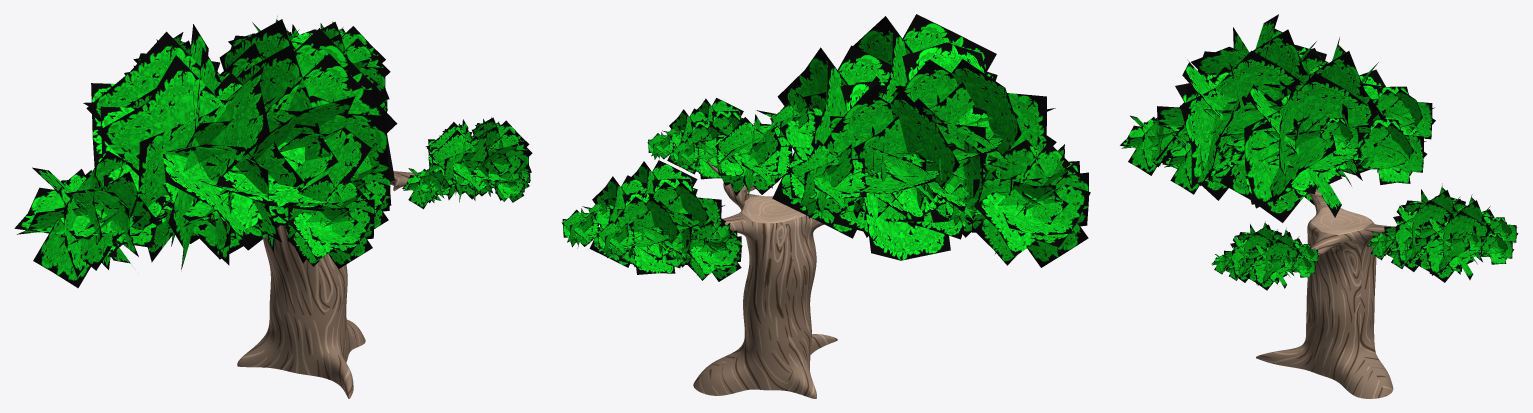
The model's file is Big tree.fbx.
The picture shows the model from 3 angles, left to right: view 1: azimuth 30°, elevation 25°; view 2: azimuth 150°, elevation 25°; view 3: azimuth 270°, elevation 25°; orthographic projection. The views are drawn at different scales.
Parts seen in each view (by area): view 1: polySurface83, polySurface757; view 2: polySurface83, polySurface757; view 3: polySurface83, polySurface757.
Part boxes in pixels (x1,y1,x2,y2): polySurface83: [14, 16, 532, 287]; polySurface757: [237, 171, 415, 398]; polySurface83: [561, 14, 1090, 281]; polySurface757: [693, 159, 837, 398]; polySurface83: [1120, 14, 1518, 290]; polySurface757: [1256, 189, 1394, 398].
Bounding box in the file's own units: 113 × 84.45 × 104.
